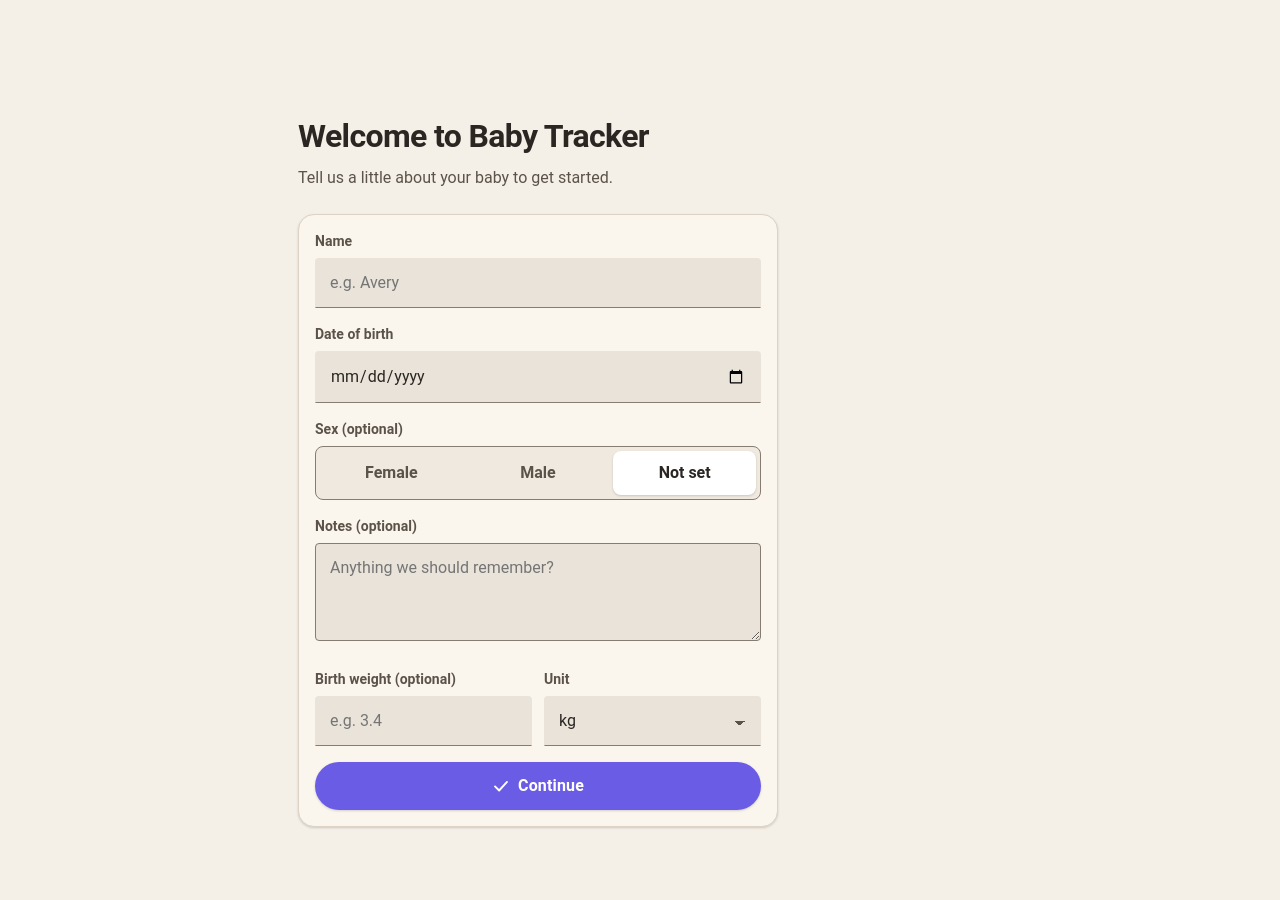
Scenario: Growth chart zoom modal › renders a zoomable Recharts brush inside the modal
This screenshot has width=1280, height=900.
Type "Avery" into the field labelled "Name" at {"x": 538, "y": 283}, box [315,258,761,308]
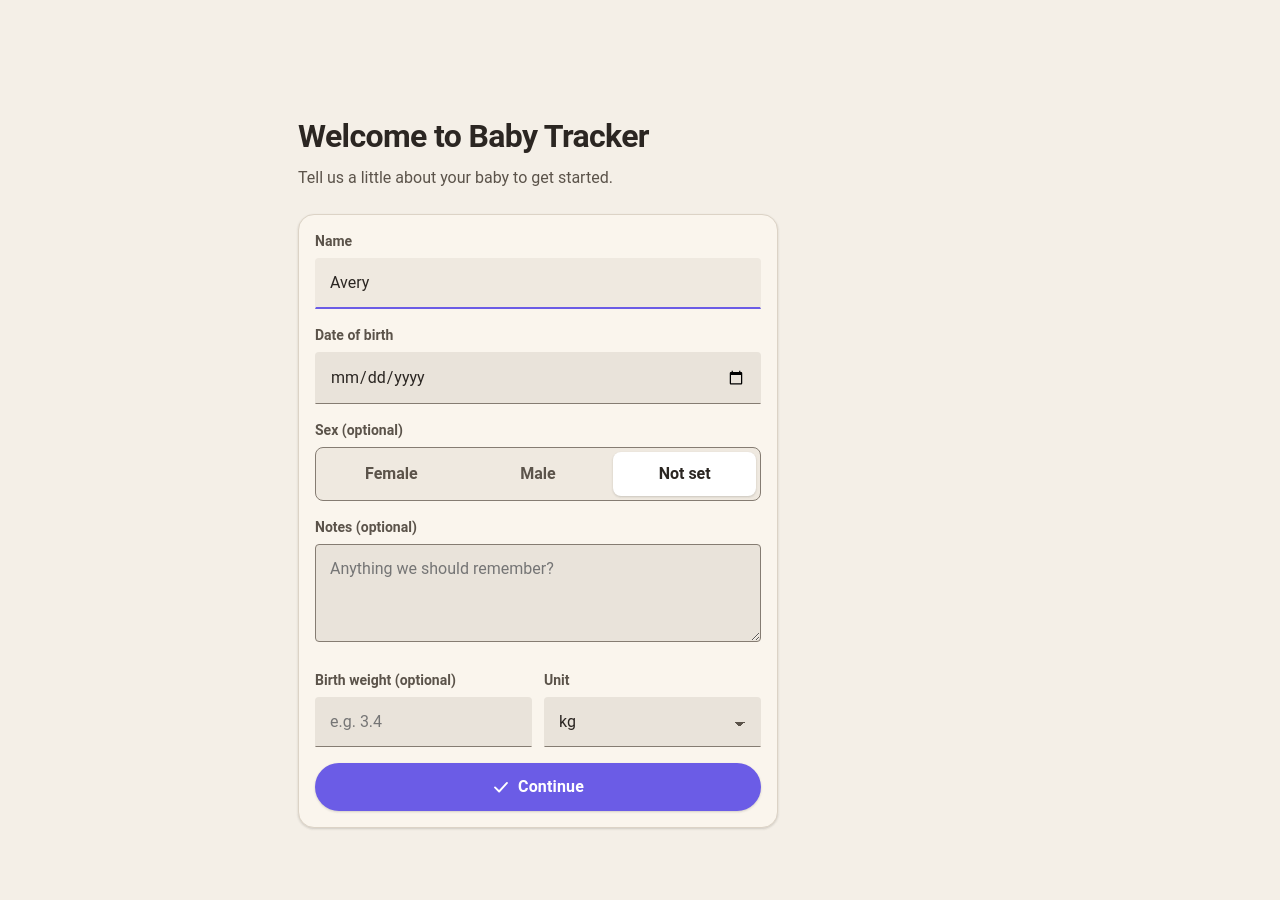
Type "2026-01-15" into the date field labelled "Date of birth" at {"x": 538, "y": 378}, box [315,352,761,404]
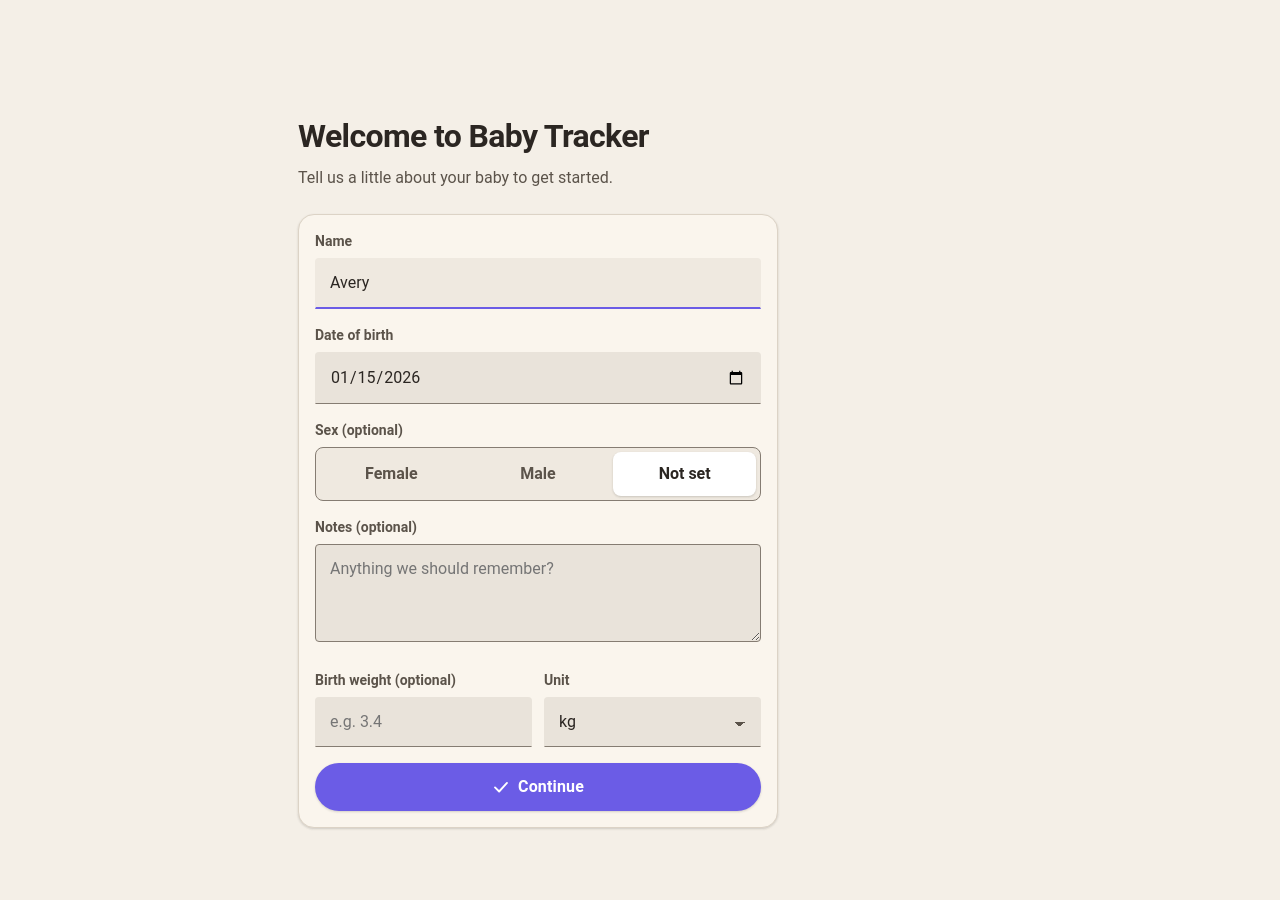
Click the button "Continue" at {"x": 538, "y": 787}, box [315,763,761,811]
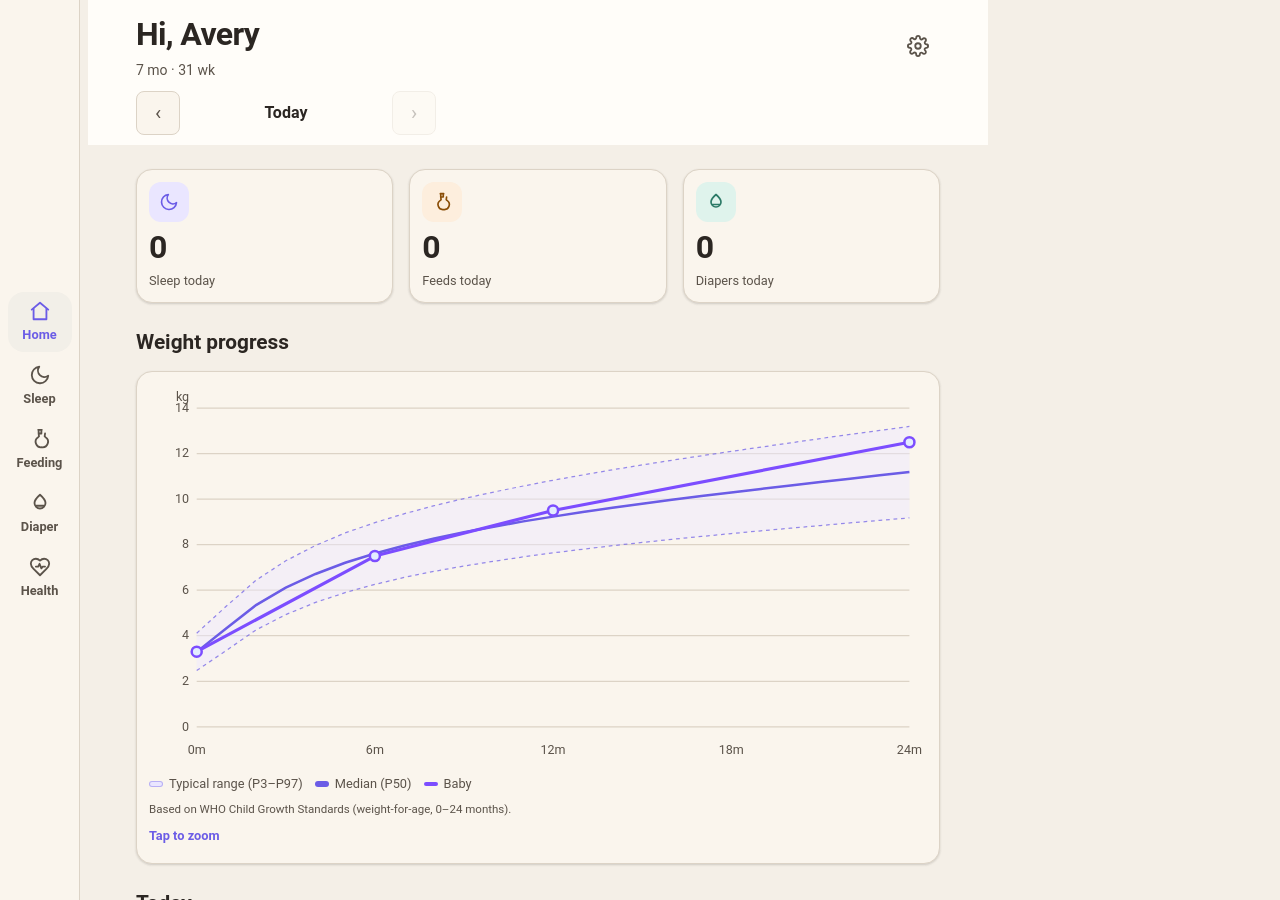
Click the button with aria-label "open weight chart zoom" at {"x": 538, "y": 835}, box [136,371,940,864]
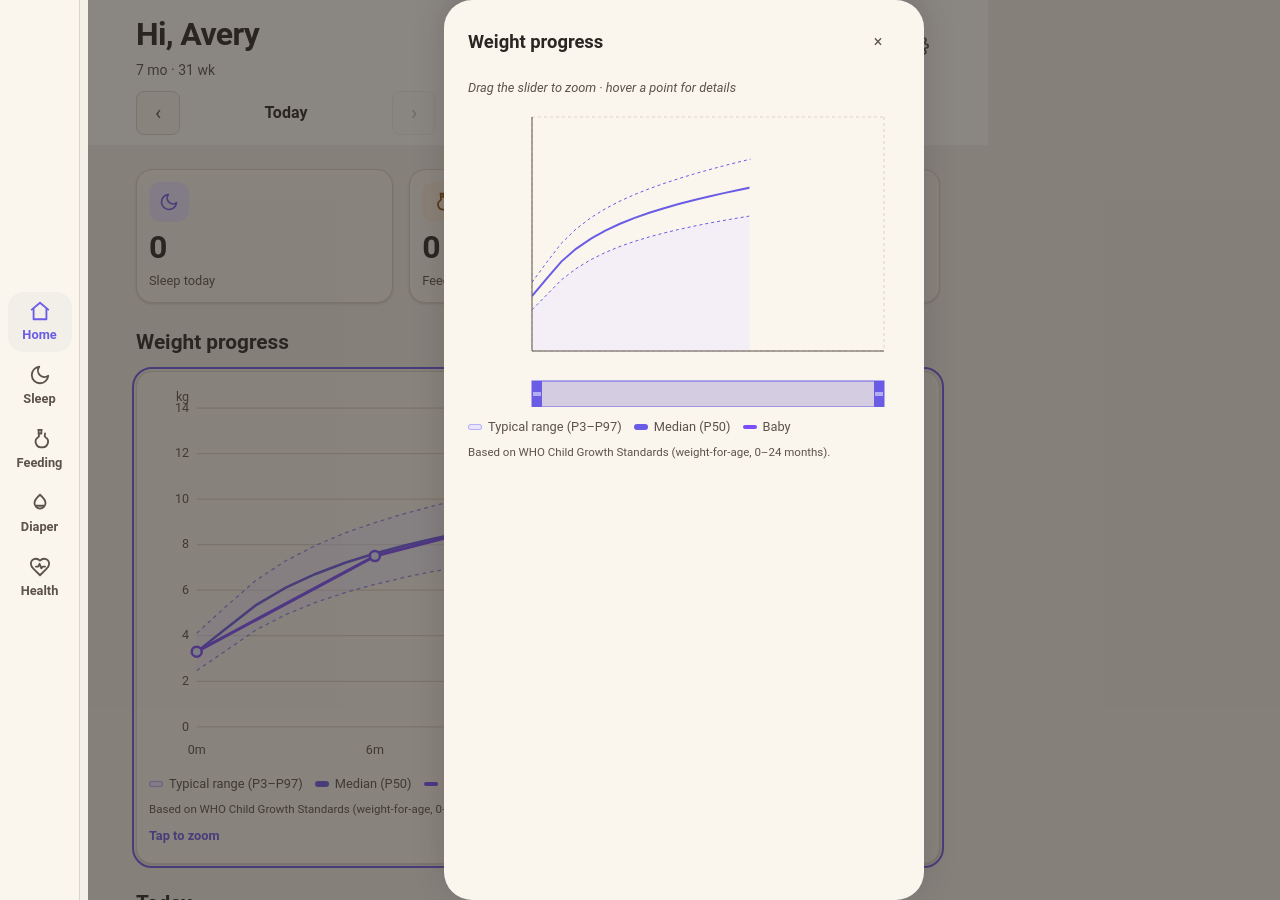
Expected: the element with class "recharts-brush" is shown, [532,381,884,407]
Result: the dialog "Weight progress" is shown at [444,0,924,899]
